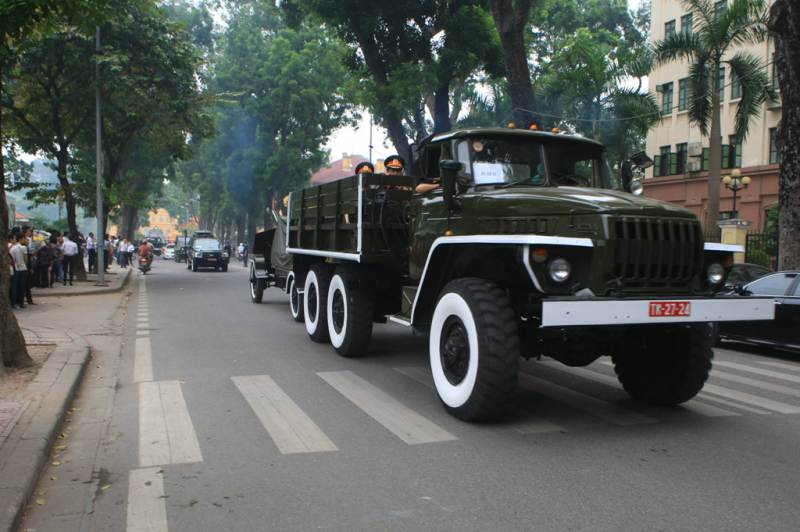plate: (648, 298, 694, 321)
